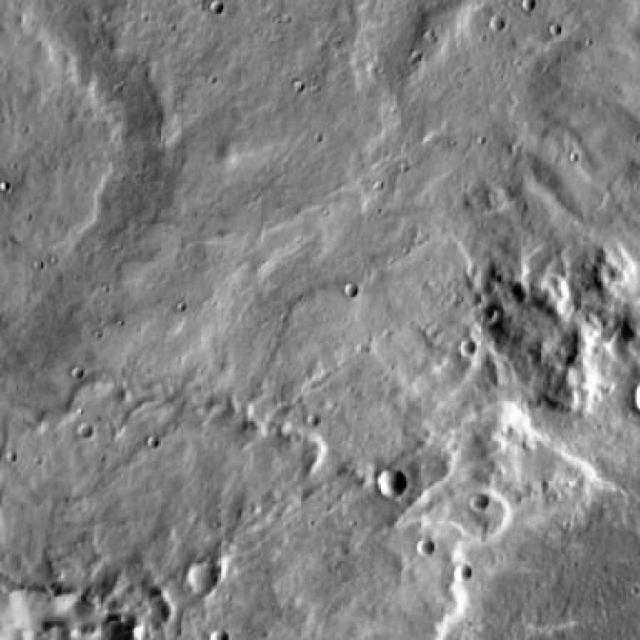crater: (184, 559, 218, 593), (378, 469, 409, 500), (472, 495, 490, 514), (458, 339, 476, 356), (418, 540, 434, 557), (459, 563, 475, 579)
